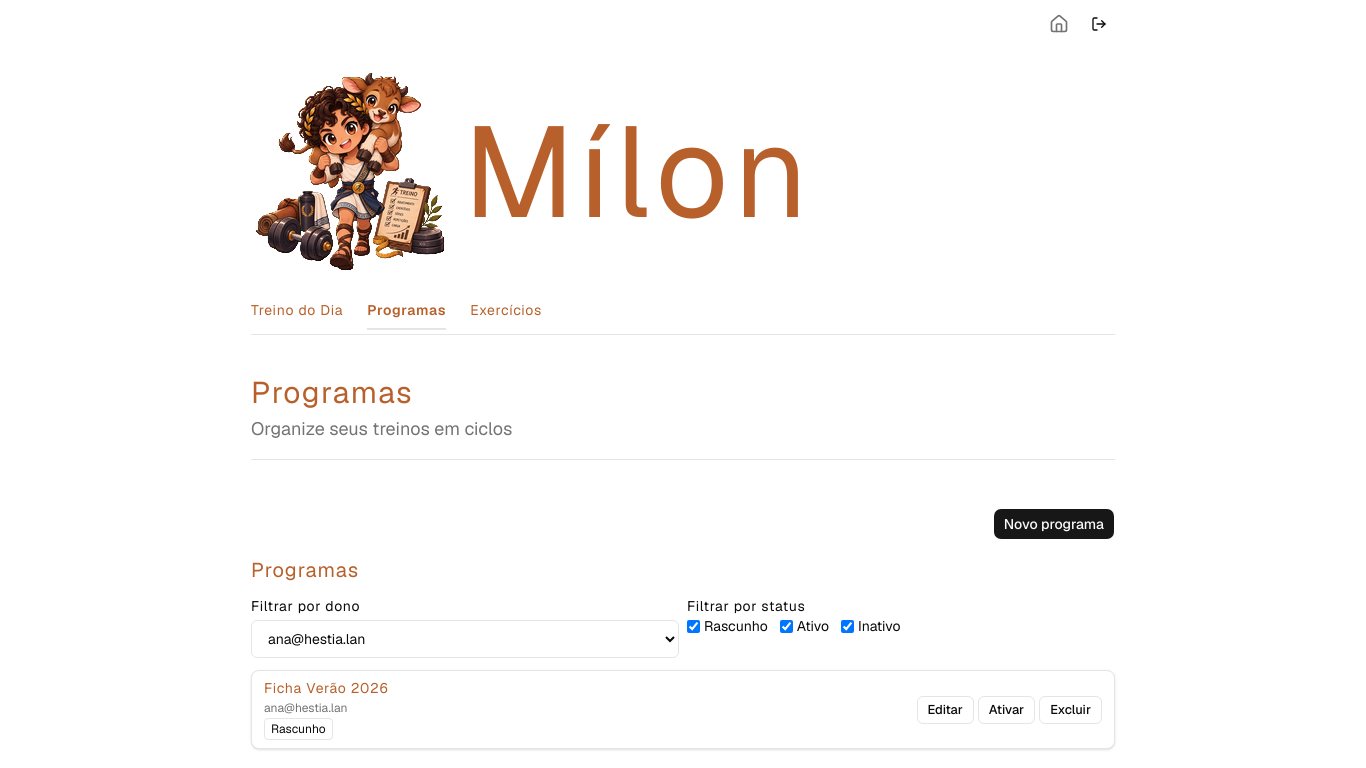
Test: Página /milon/programs — Programas (Mílon #2, TASK-010) › falha do hook ao pedir a ativação não impede a abertura do modal local
Click the button "Ativar" at coordinates (1006, 710), box x1=978 y1=696 x2=1035 y2=724
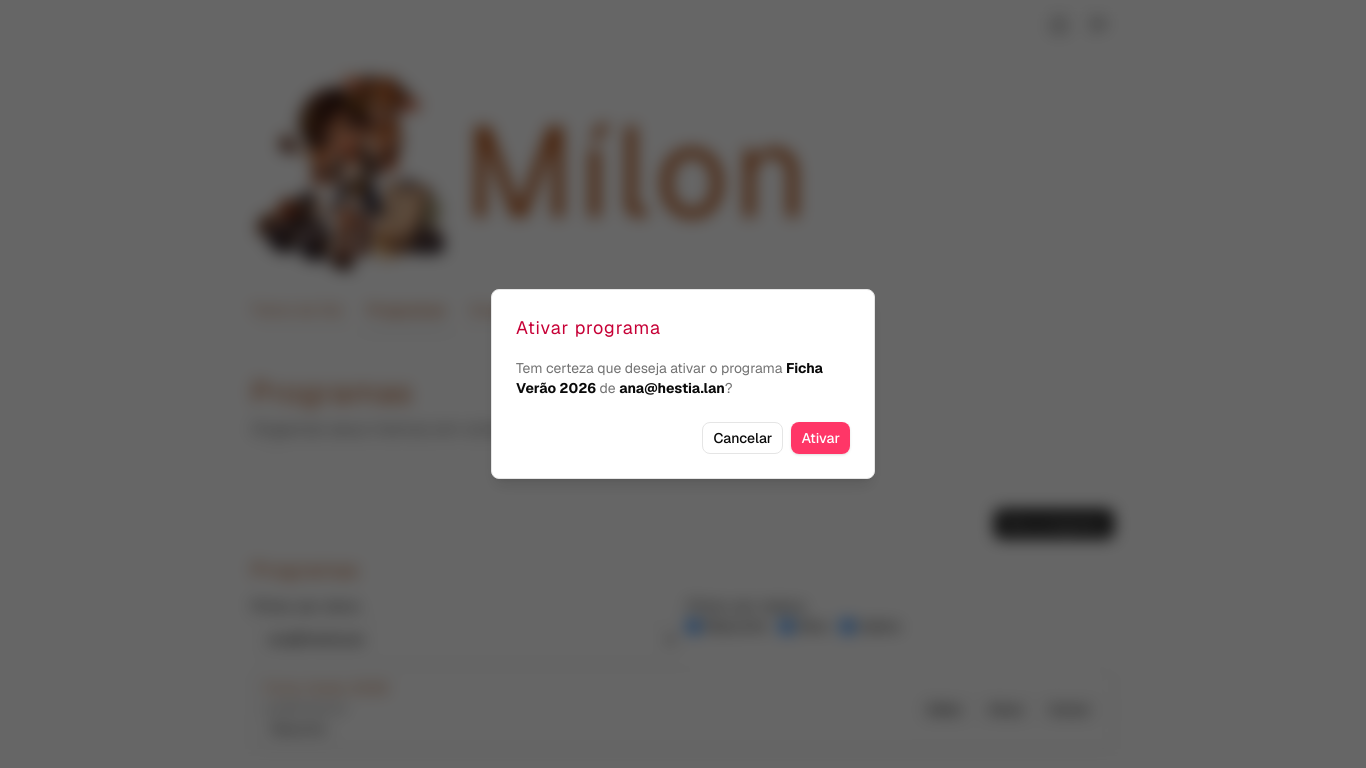
Result: the heading "Ativar programa" is shown at x1=516 y1=316 x2=661 y2=339
